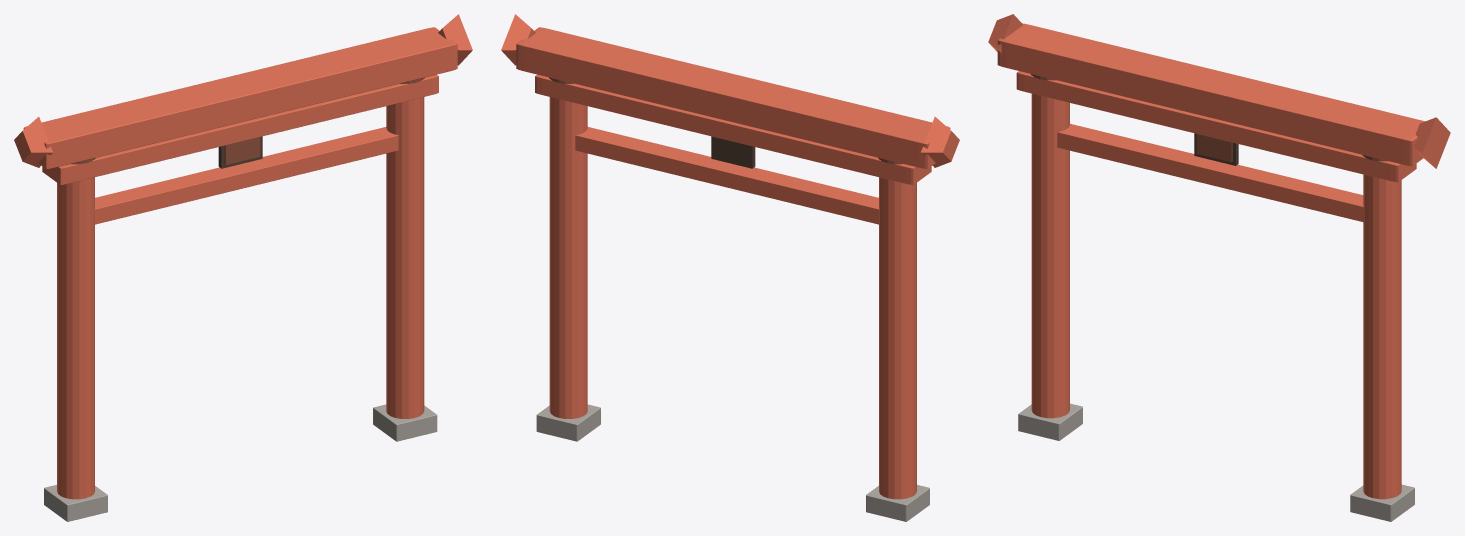
File: torii_grand.glb
3 views of the same model, side by side, from view 1: azimuth 30°, elevation 25°; view 2: azimuth 150°, elevation 25°; view 3: azimuth 330°, elevation 25° (orthographic).
Visible parts, largest first — view 1: torii_grand; view 2: torii_grand; view 3: torii_grand.
Part boxes in pixels (box(x1,y1,x2,y2)): torii_grand: box(14, 14, 472, 521); torii_grand: box(501, 14, 959, 521); torii_grand: box(988, 14, 1450, 521).
Bounding box in the file's own units: 5.3 × 4.66 × 0.6.
